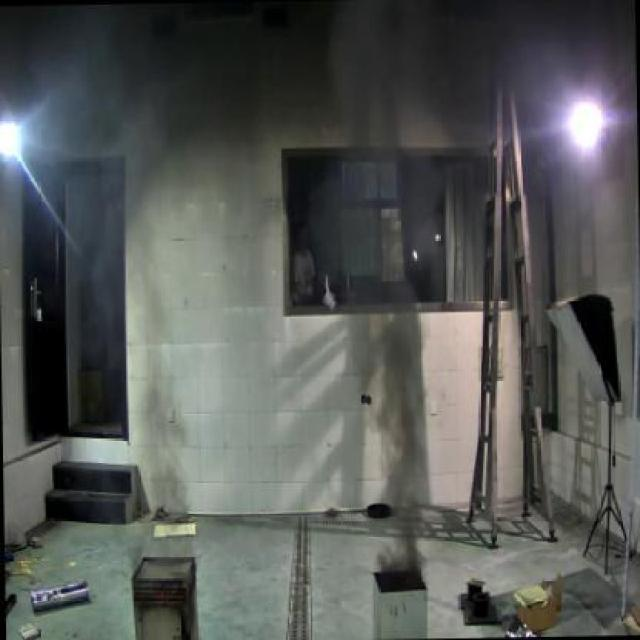fire: (362, 306, 433, 574), (128, 364, 194, 558)
